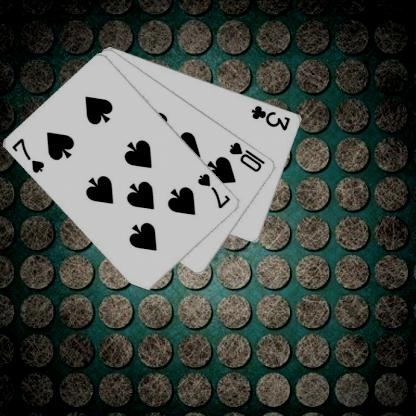10S: (226, 139, 266, 174)
3C: (249, 103, 292, 132)
7S: (195, 170, 232, 209), (9, 136, 46, 174)
